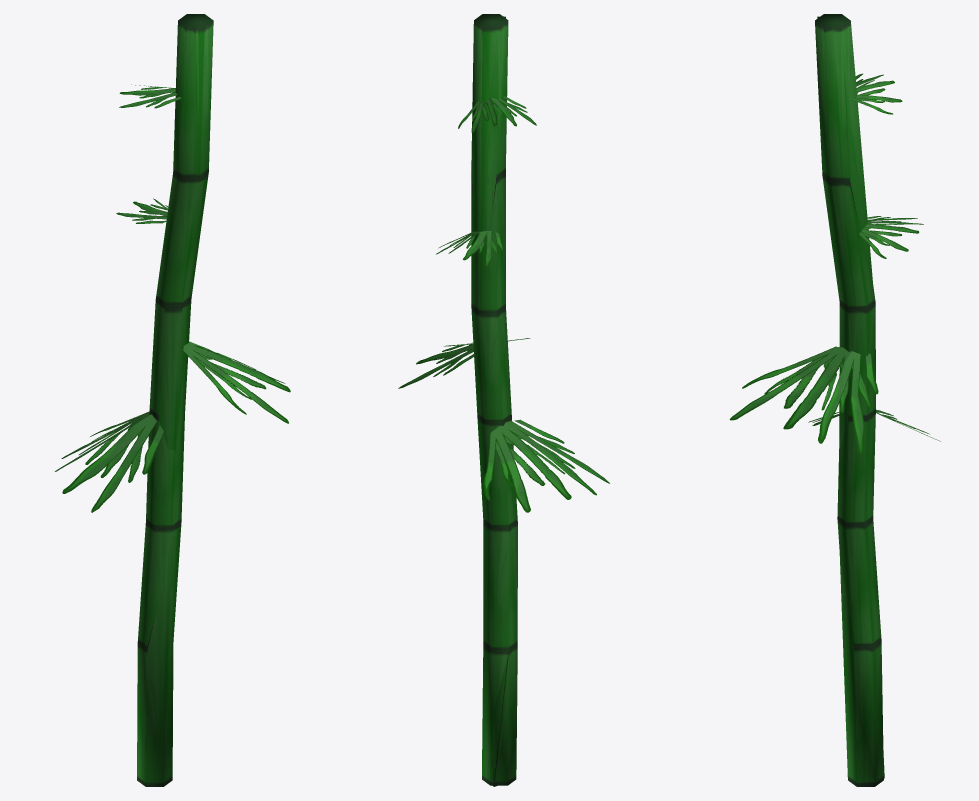
The model's file is bamboo.fbx.
The picture shows the model from 3 angles, left to right: view 1: azimuth 30°, elevation 25°; view 2: azimuth 150°, elevation 25°; view 3: azimuth 270°, elevation 25°; orthographic projection. The views are drawn at different scales.
Visible parts, largest first — view 1: Bamboo, Bamboo_col; view 2: Bamboo, Bamboo_col; view 3: Bamboo, Bamboo_col.
Part boxes in pixels (left/top/right/bottom): Bamboo: left=55, top=14, right=290, bottom=786; Bamboo_col: left=138, top=14, right=213, bottom=786; Bamboo: left=398, top=14, right=609, bottom=785; Bamboo_col: left=471, top=14, right=517, bottom=786; Bamboo: left=729, top=14, right=940, bottom=786; Bamboo_col: left=817, top=14, right=884, bottom=786.
Size of the model in its own units: 350 by 985 by 346.
